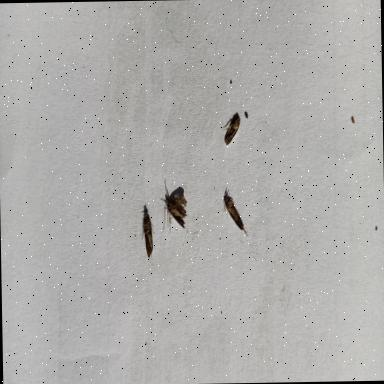pbw: (221, 190, 250, 238), (160, 186, 188, 232), (140, 202, 156, 264), (224, 110, 242, 152)
